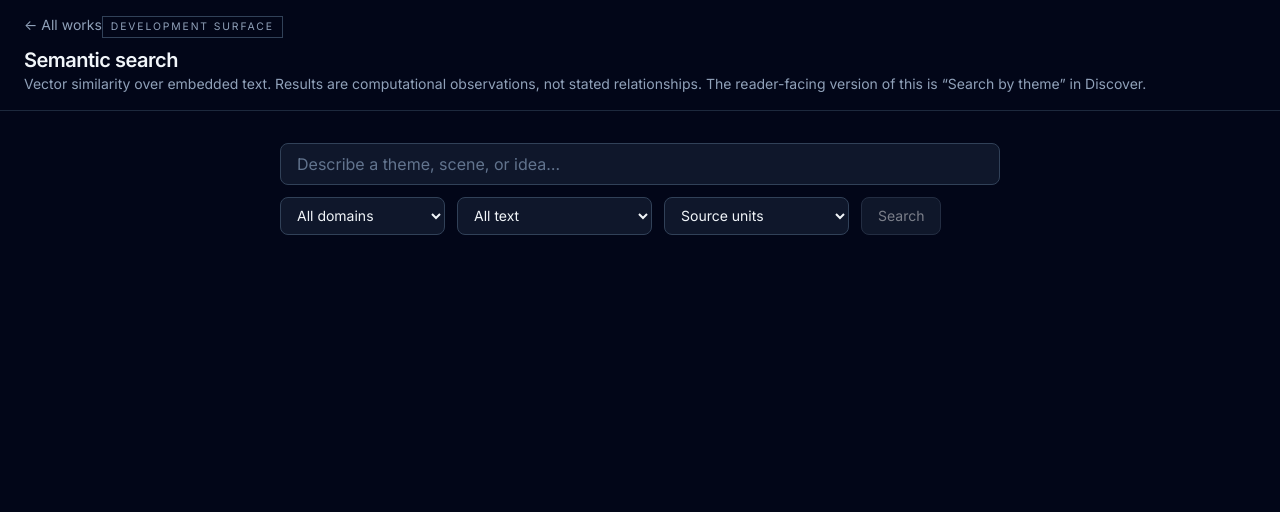
Test: Semantic search (retrieval detail) › can switch to the contextual passage representation
The width and height of the screenshot is (1280, 512).
Type "isolation" into the field with placeholder "Describe a theme, scene, or idea…" at (640, 164), box [280,143,1000,185]
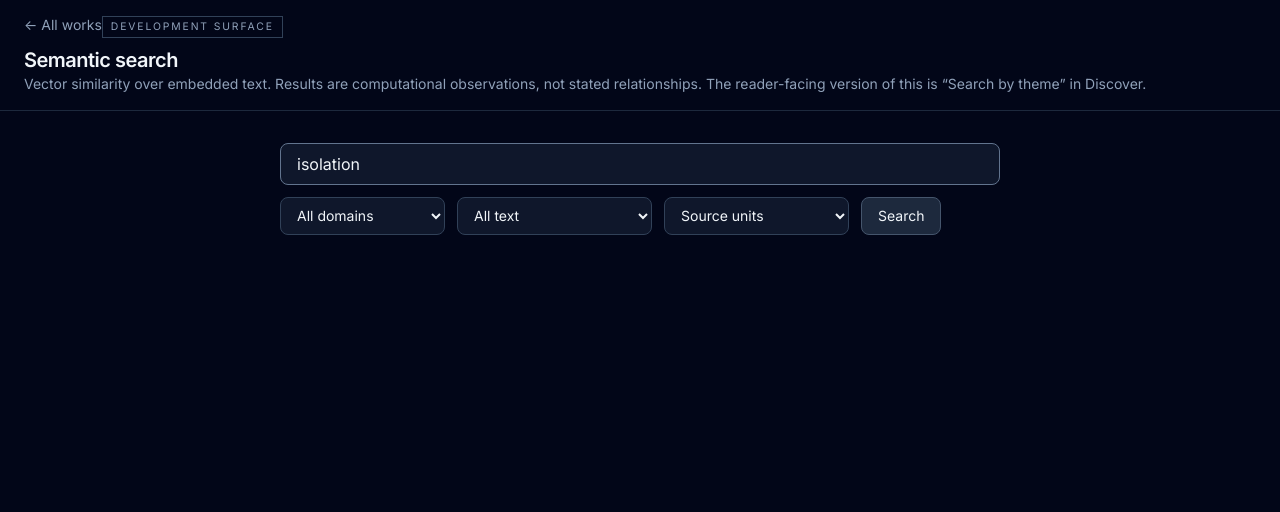
Select "Contextual passages" in the dropdown named "Representation" at (756, 216), box [664,197,849,235]
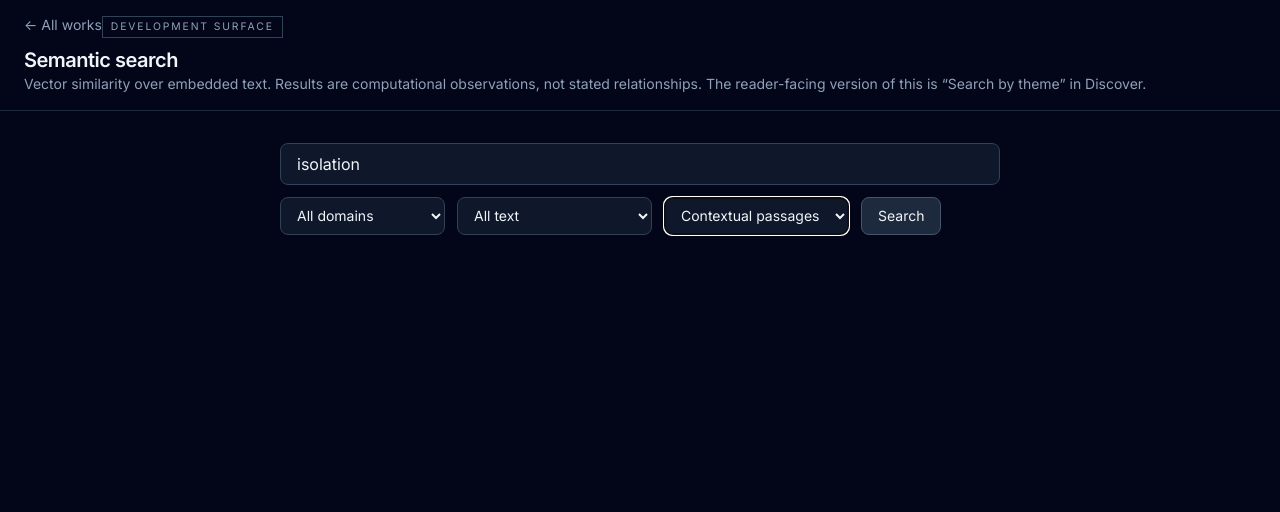
Click the button "Search" at (901, 216), box [861,197,942,235]
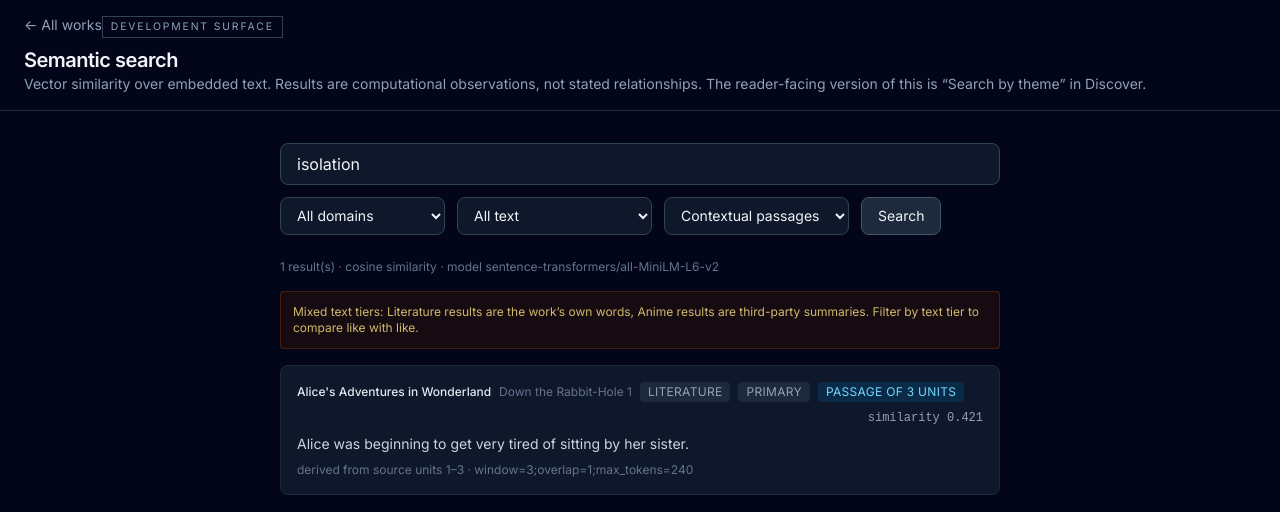
Expected: the element with test id "search-results" is shown, [280,259,1000,495]
Expected: the text "passage of 3 units" is shown, [818,382,964,402]
Expected: the text "derived from source units 1–3" is shown, [297,462,693,477]
